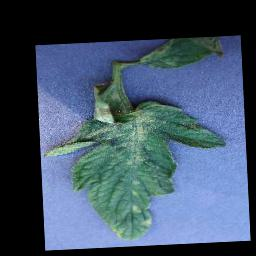Leaf_Mold: (87, 81, 164, 170)
